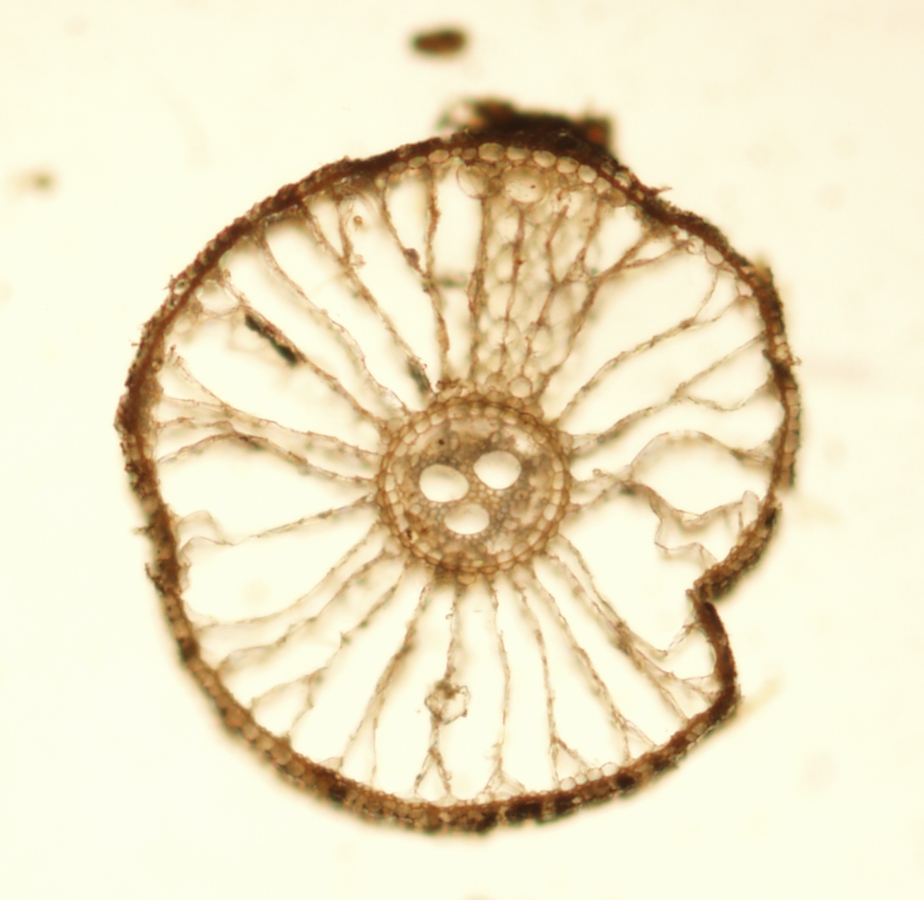lm: (473, 450, 522, 489), (419, 464, 469, 502), (444, 502, 489, 534)
